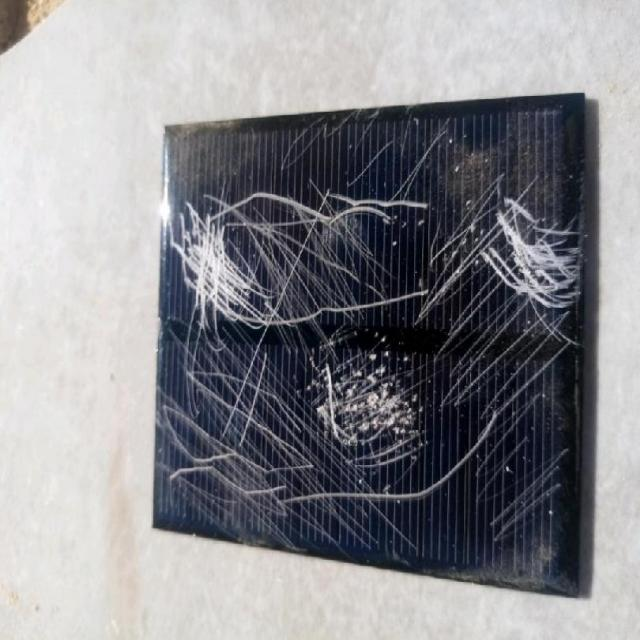faulty: (154, 102, 586, 580)
